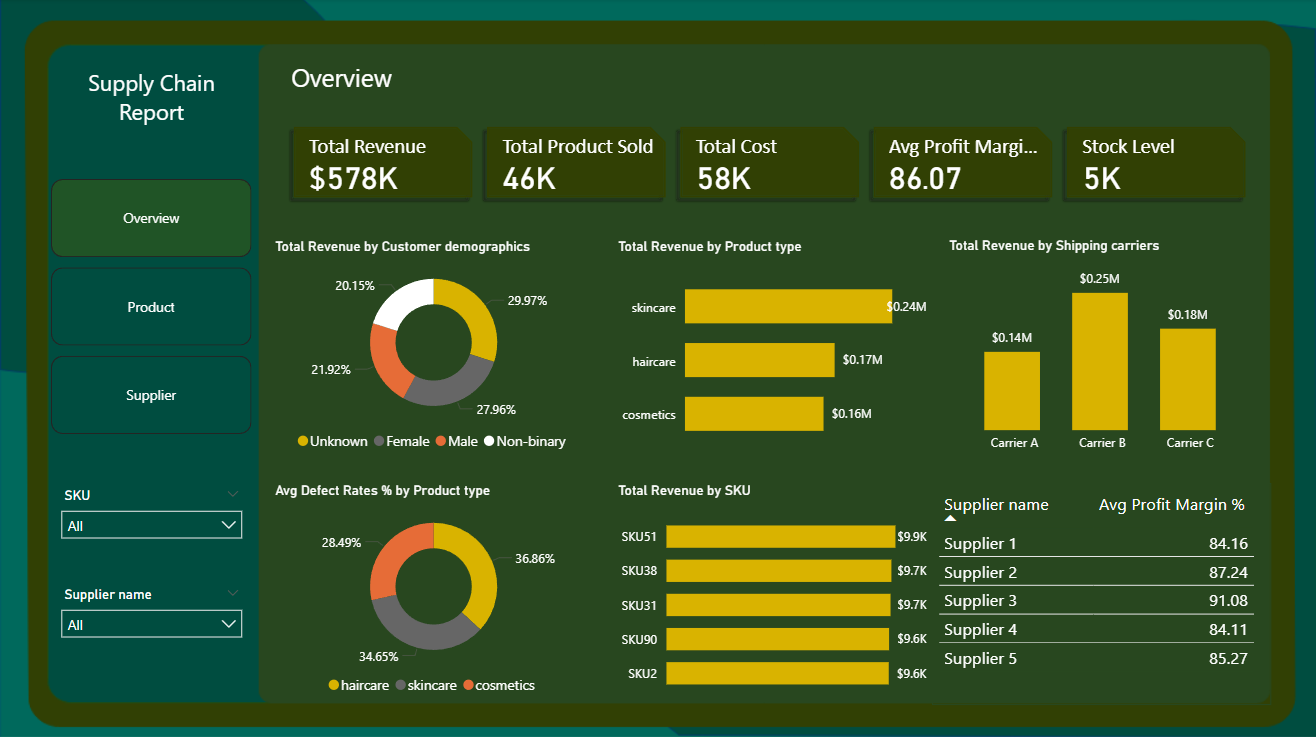

The page's visual inventory and layout, read from the dashboard file:
{"tool":"powerbi","page":{"name":"Overview","canvas":[1280,720],"ordinal":0},"visuals":[{"type":"cardVisual","fields":{"Data":["_Measures.Total Revenue","_Measures.Total Product Sold","_Measures.Total Cost","_Measures.Avg Profit Margin %","_Measures.Stock Level"]},"box":[261.6,100.2,978.5,117.7],"z":0},{"type":"pageNavigator","box":[49.6,175.1,195.5,248],"z":0,"group":"g1"},{"type":"donutChart","fields":{"Y":["_Measures.Total Revenue"],"Category":["supply_chain_data.Customer demographics"]},"box":[262.5,233.2,318.3,215.5],"z":1000},{"type":"slicer","fields":{"Values":["supply_chain_data.SKU"]},"box":[49.6,470.8,195.5,86.6],"z":1000,"group":"g1"},{"type":"donutChart","fields":{"Y":["_Measures.Avg Defect Rates %"],"Category":["supply_chain_data.Product type"]},"box":[262.5,470.8,318.3,215.5],"z":2000},{"type":"slicer","fields":{"Values":["supply_chain_data.Supplier name"]},"box":[49.6,567.1,195.5,86.6],"z":2000,"group":"g1"},{"type":"textbox","box":[49.6,61.3,195.5,77.8],"z":3000,"group":"g1"},{"type":"clusteredBarChart","fields":{"Y":["_Measures.Total Revenue"],"Category":["supply_chain_data.Product type"]},"box":[595.9,233.2,310.3,215.5],"z":3000},{"type":"clusteredBarChart","fields":{"Y":["_Measures.Total Revenue"],"Category":["supply_chain_data.SKU"]},"box":[595.9,470.8,310.3,215.5],"z":4000},{"type":"columnChart","fields":{"Y":["_Measures.Total Revenue"],"Category":["supply_chain_data.Shipping carriers"]},"box":[918.2,232.5,308.3,216.9],"z":5000},{"type":"tableEx","fields":{"Values":["supply_chain_data.Supplier name","_Measures.Avg Profit Margin %"]},"box":[906.5,470.8,329.7,215.9],"z":6000},{"type":"textbox","box":[278.2,54.5,269.4,61.3],"z":7000},{"type":"group","id":"g1","title":"Group 1","box":[49.6,61.3,195.5,592.3],"z":8000}]}

Visuals, with their boxes in screenshot pixels (x1, y1, x2, y2), scaled from the page's 1280x720 canvas onto the 1316x737 screenshot:
cardVisual - _Measures.Total Revenue x _Measures.Total Product Sold: Rect(269, 103, 1275, 223)
pageNavigator: Rect(51, 179, 252, 433)
donutChart - _Measures.Total Revenue x supply_chain_data.Customer demographics: Rect(270, 239, 597, 459)
slicer - supply_chain_data.SKU: Rect(51, 482, 252, 571)
donutChart - _Measures.Avg Defect Rates % x supply_chain_data.Product type: Rect(270, 482, 597, 703)
slicer - supply_chain_data.Supplier name: Rect(51, 580, 252, 669)
textbox: Rect(51, 63, 252, 142)
clusteredBarChart - _Measures.Total Revenue x supply_chain_data.Product type: Rect(613, 239, 932, 459)
clusteredBarChart - _Measures.Total Revenue x supply_chain_data.SKU: Rect(613, 482, 932, 703)
columnChart - _Measures.Total Revenue x supply_chain_data.Shipping carriers: Rect(944, 238, 1261, 460)
tableEx - supply_chain_data.Supplier name x _Measures.Avg Profit Margin %: Rect(932, 482, 1271, 703)
textbox: Rect(286, 56, 563, 119)
"Group 1" group: Rect(51, 63, 252, 669)
